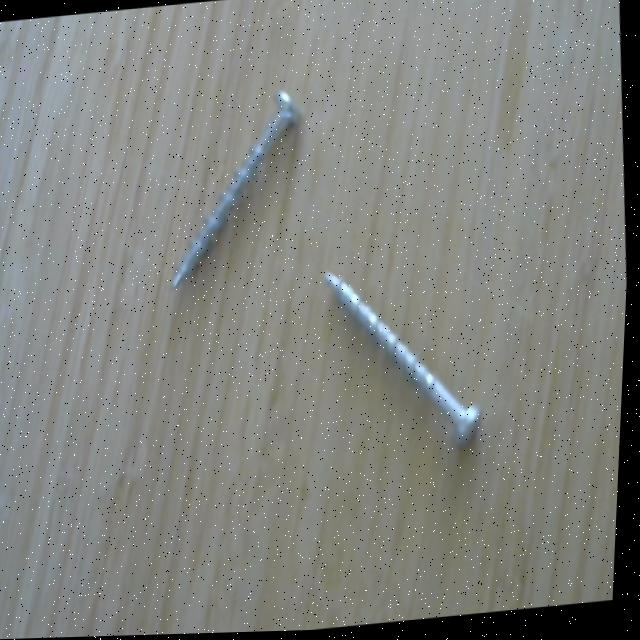Medium screw: (318, 261, 494, 467), (165, 82, 312, 303)
